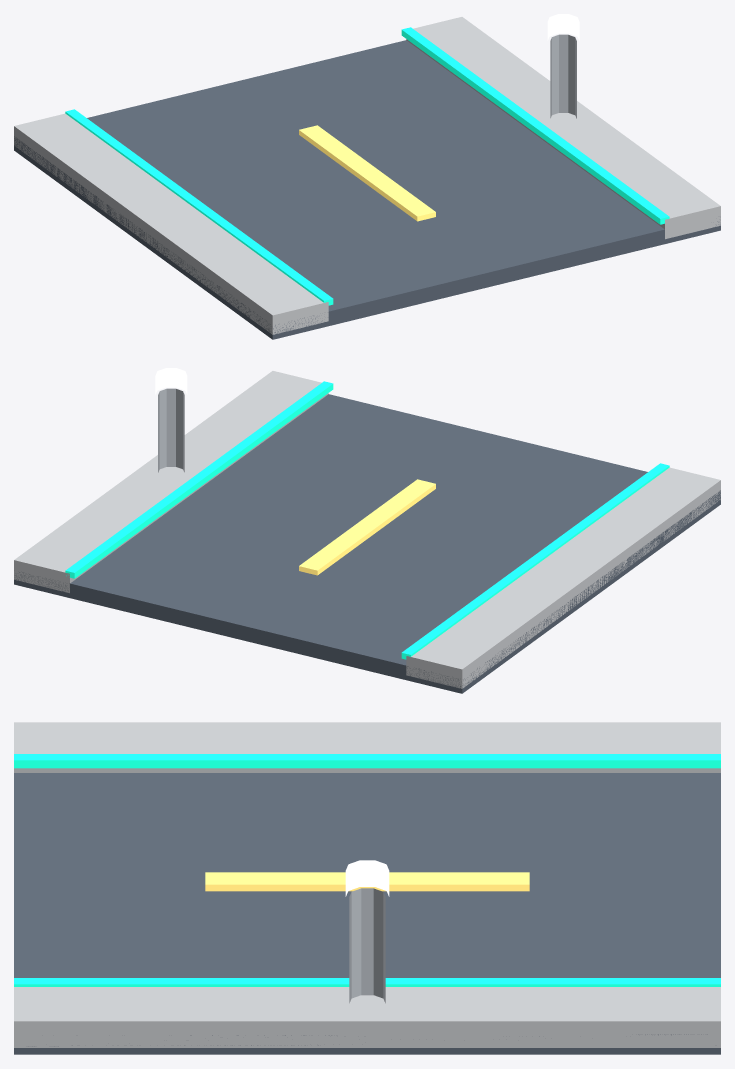
Rendered from campus_road_plaza_segment.glb.
3 views of the same model, one above another, from view 1: azimuth 30°, elevation 25°; view 2: azimuth 150°, elevation 25°; view 3: azimuth 270°, elevation 25° (orthographic). The views are drawn at different scales.
Visible parts, largest first — view 1: campus_road_plaza_segment; view 2: campus_road_plaza_segment; view 3: campus_road_plaza_segment.
Part boxes in pixels (box(x1,y1,x2,y2)): campus_road_plaza_segment: box(14, 14, 720, 339); campus_road_plaza_segment: box(14, 368, 720, 693); campus_road_plaza_segment: box(14, 722, 720, 1054).
Bounding box in the file's own units: 0.96 × 0.25 × 0.96.
